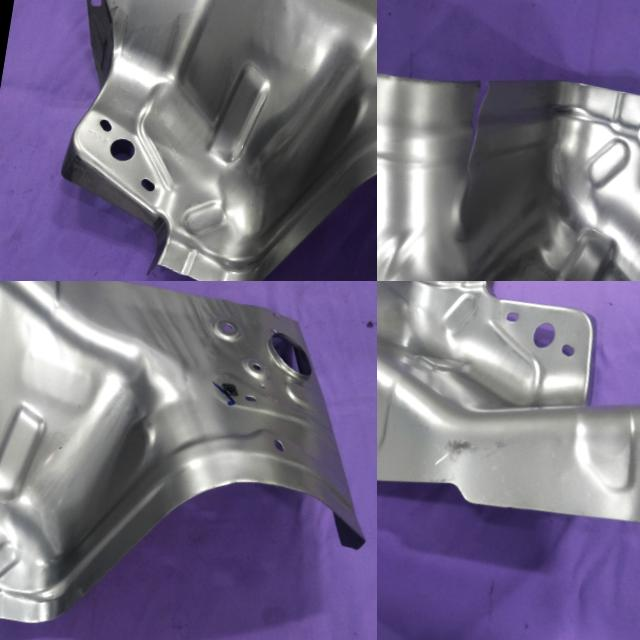Defect: (452, 73, 504, 184)
Healthy: (0, 281, 377, 640), (21, 0, 377, 281), (377, 281, 640, 553)
